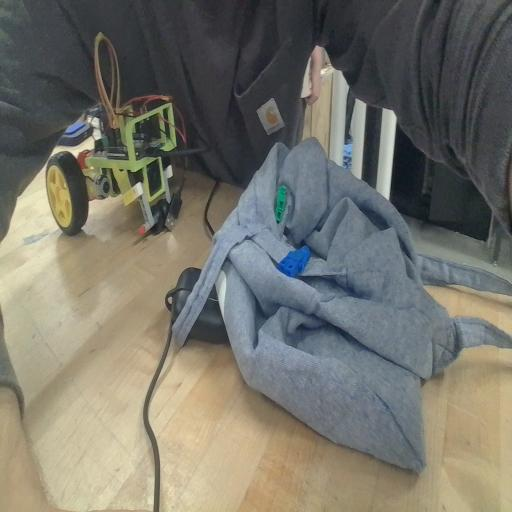blue LEGO minifig: (278, 240, 314, 281), (274, 183, 286, 222)
